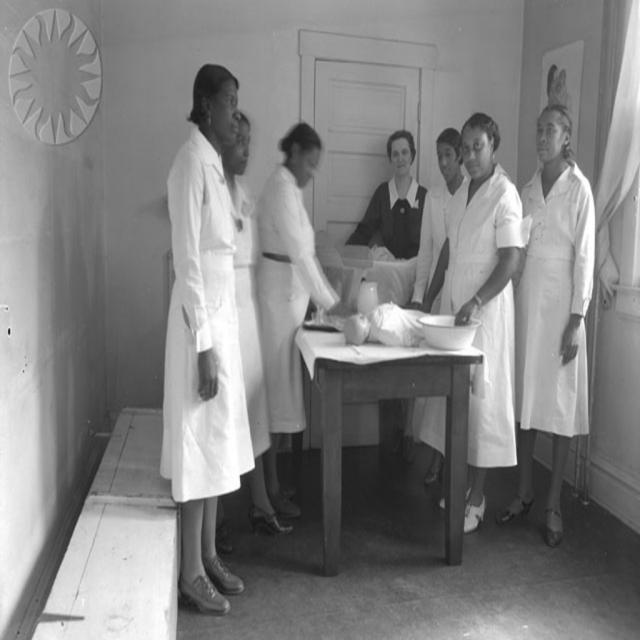desk: (300, 314, 478, 579)
person: (392, 118, 524, 530), (160, 62, 256, 614), (508, 99, 596, 557), (250, 115, 340, 528), (343, 128, 431, 260)
